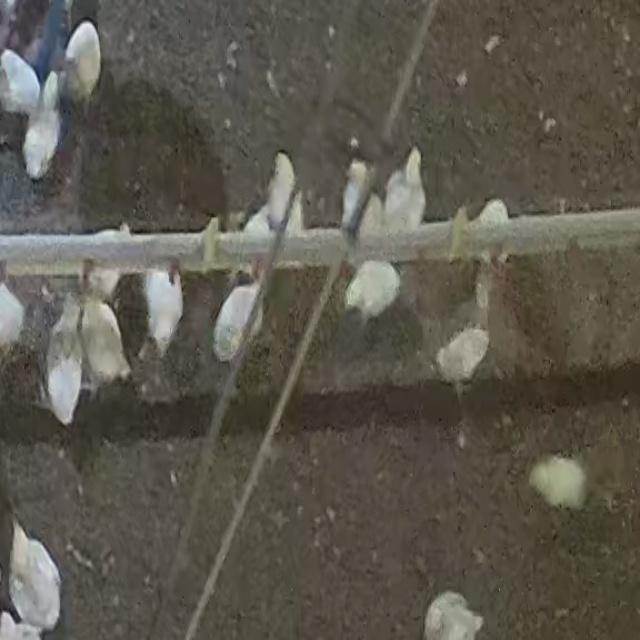chicken: (5, 519, 65, 635), (41, 294, 85, 427), (76, 292, 132, 394), (212, 272, 266, 363), (22, 75, 63, 186), (141, 261, 184, 358), (383, 146, 427, 234), (343, 258, 401, 324), (82, 224, 128, 304), (529, 453, 587, 515), (438, 328, 489, 390), (60, 23, 100, 102), (338, 159, 372, 247), (423, 592, 482, 640), (264, 152, 297, 233), (473, 197, 511, 258), (0, 268, 27, 349), (1, 48, 35, 110)
